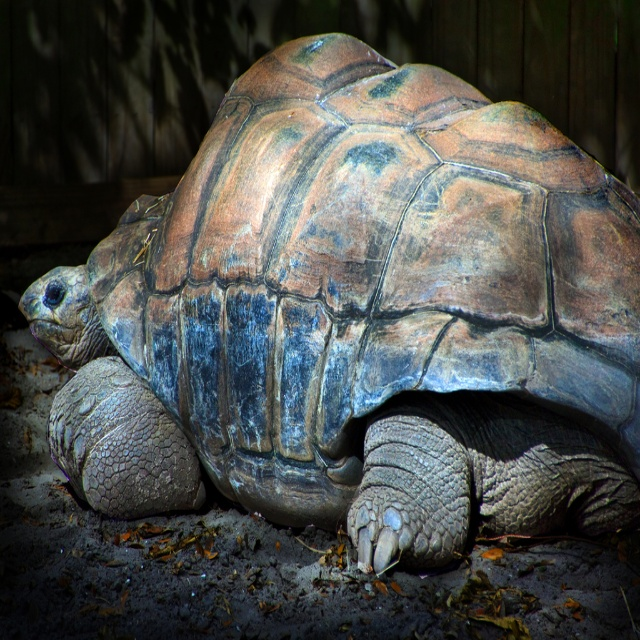Sea turtle: (20, 31, 640, 585)
